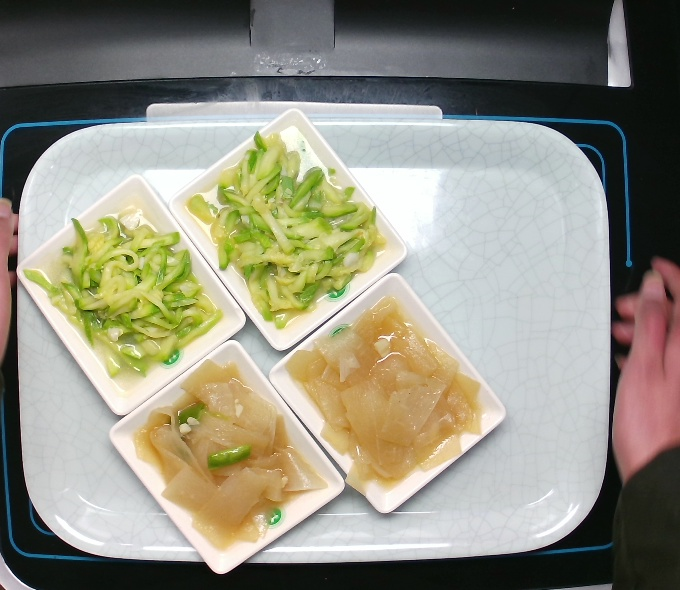wcq-LuoBo: (282, 290, 489, 502), (131, 356, 331, 556)
wcq-NenNanGua: (184, 127, 388, 332), (22, 206, 227, 381)
